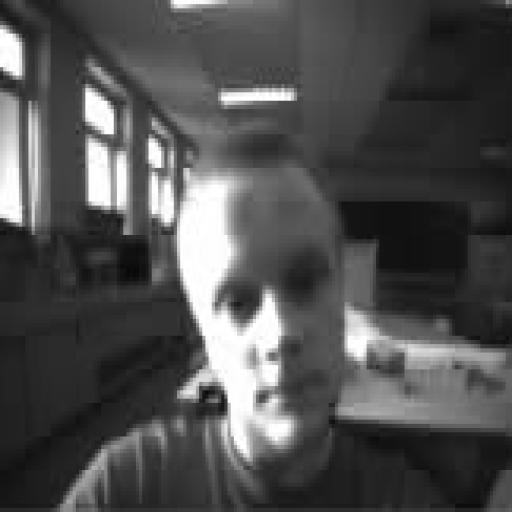human: (61, 122, 445, 511)
